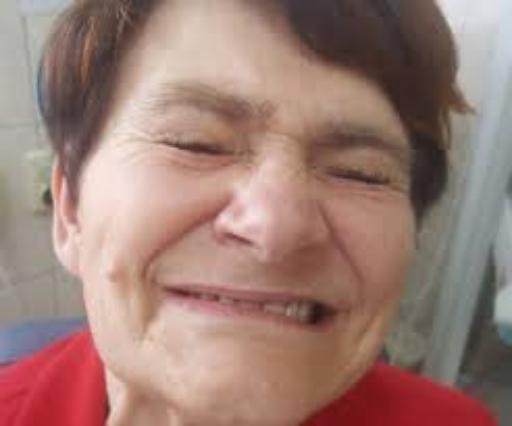left_eye: (327, 160, 396, 196)
left_lip_corner: (314, 294, 353, 323)
right_eye: (151, 123, 237, 168)
right_lip_corner: (150, 276, 194, 304)
